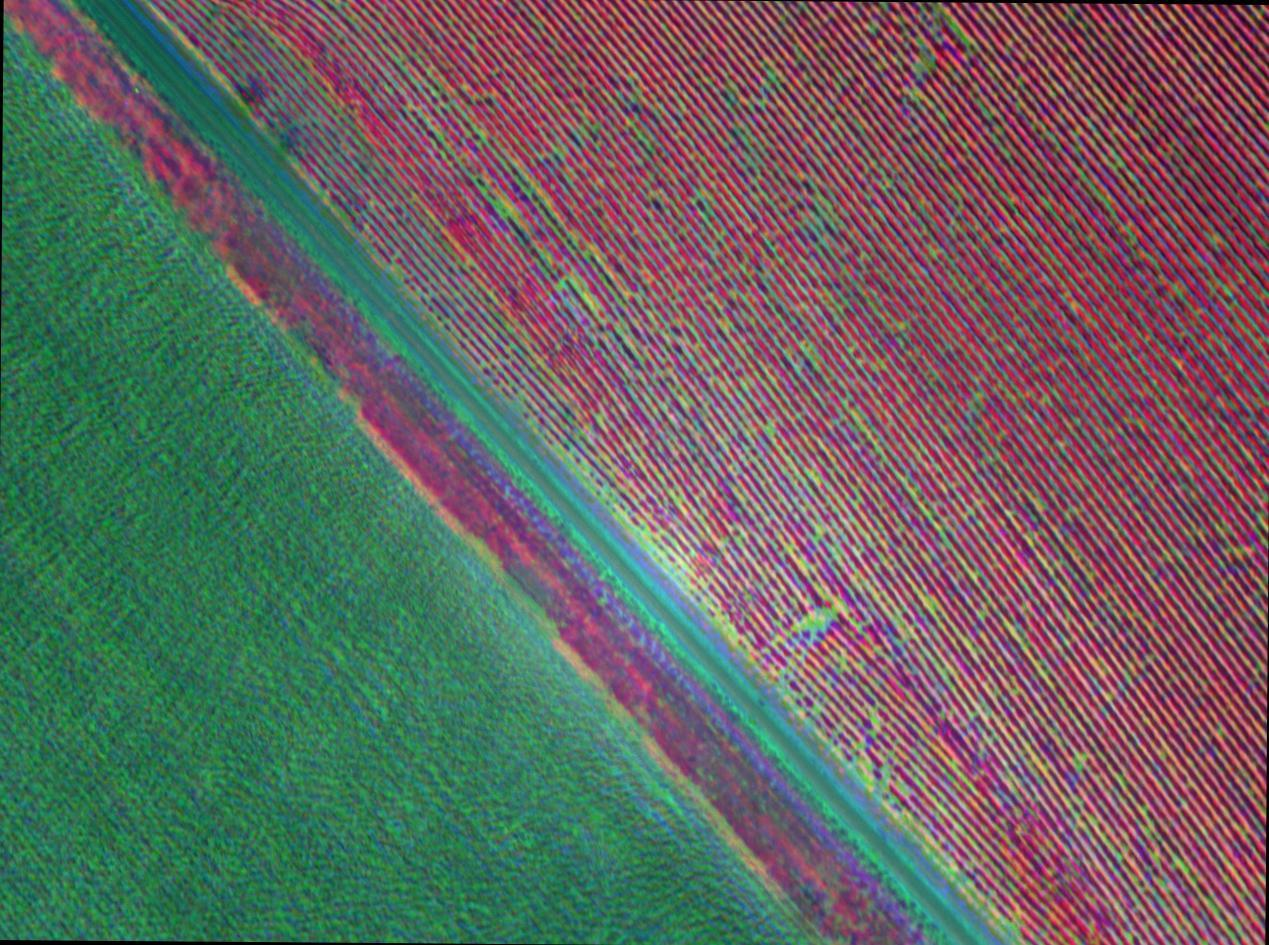dc: (926, 601, 935, 612), (767, 427, 773, 434), (882, 770, 888, 777), (1007, 924, 1013, 930), (1080, 756, 1085, 761), (494, 203, 500, 207), (899, 783, 903, 788)
